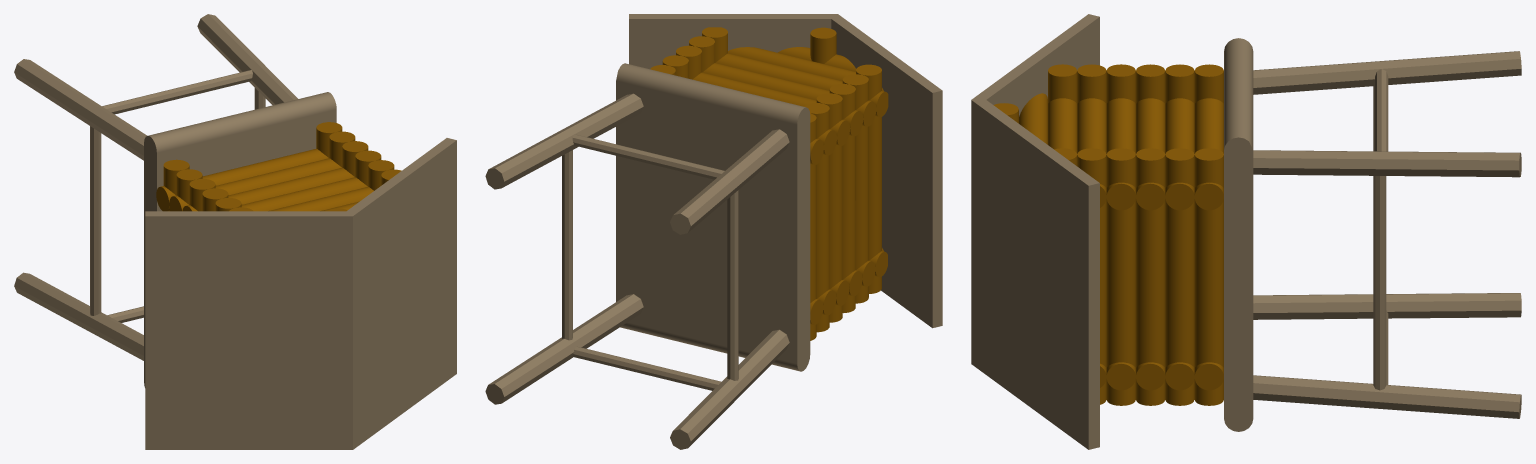
The model's file is bear cache.fbx.
3 views of the same model, side by side, from view 1: azimuth 30°, elevation 25°; view 2: azimuth 150°, elevation 25°; view 3: azimuth 270°, elevation 25° (orthographic). The views are drawn at different scales.
Visible parts, largest first — view 1: roof, floor, house wood; view 2: floor, house wood, roof; view 3: house wood, floor, roof.
Part boxes in pixels (box(x1,y1,x2,y2)): roof: box(145, 138, 456, 449); floor: box(14, 14, 336, 387); house wood: box(156, 122, 401, 211); floor: box(485, 63, 810, 449); house wood: box(650, 27, 888, 340); roof: box(629, 14, 942, 328); house wood: box(993, 64, 1223, 405); floor: box(1224, 38, 1521, 431); roof: box(971, 14, 1099, 449).
Bounding box in the file's own units: 7.79 × 6.24 × 10.55.
